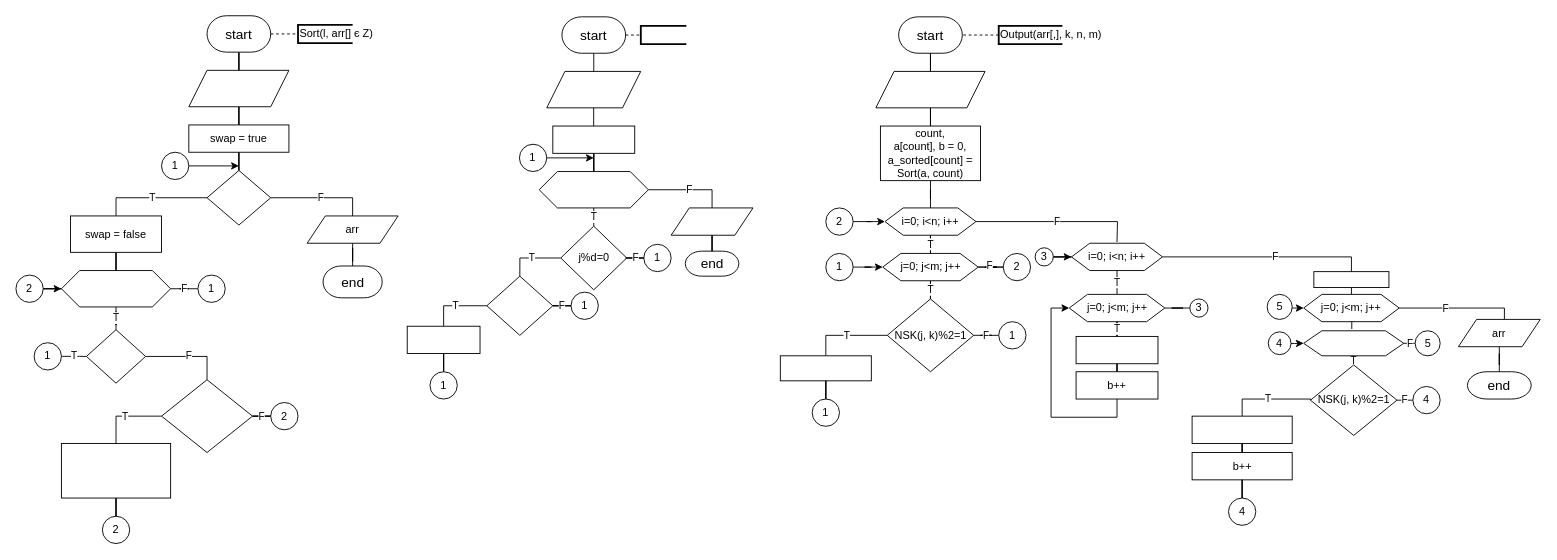
The diagram is 1557 pixels wide and 560 high, and some of its shapes have lost their labels. Each missing label, with the centre of its shape:
"a = arr[i], arr[i] = arr[i+1], arr[i+1] = a, swap = true" belongs at (x=116, y=470).
"a[b] = arr[i,j]" belongs at (x=1116, y=350).
"arr[,], k, n, m є Z" belongs at (x=930, y=89).
"arr[i,j] = a_sorted[b]" belongs at (x=1241, y=429).
"arr[i] > arr[i + 1]" belongs at (x=207, y=416).
"b=0" belongs at (x=1351, y=279).
"count++" belongs at (x=825, y=368).
"d = 1; d < j*k+1; d++" belongs at (x=593, y=189).
"i = l-1" belongs at (x=116, y=356).
"i=0; i<l; i++" belongs at (x=116, y=288).
"i=n-1; i>=0; i--" belongs at (x=1353, y=343).
"j*k/nsd" belongs at (x=711, y=221).
"j, k є Z" belongs at (x=593, y=89).
"k%d=0" belongs at (x=519, y=305).
"l, arr[] є Z" belongs at (x=238, y=88).
"nsd = 1" belongs at (x=593, y=139).
"nsd = d" belongs at (x=443, y=339).
"NSK(j, k)" belongs at (x=663, y=35).
"swap=true" belongs at (x=238, y=197).
